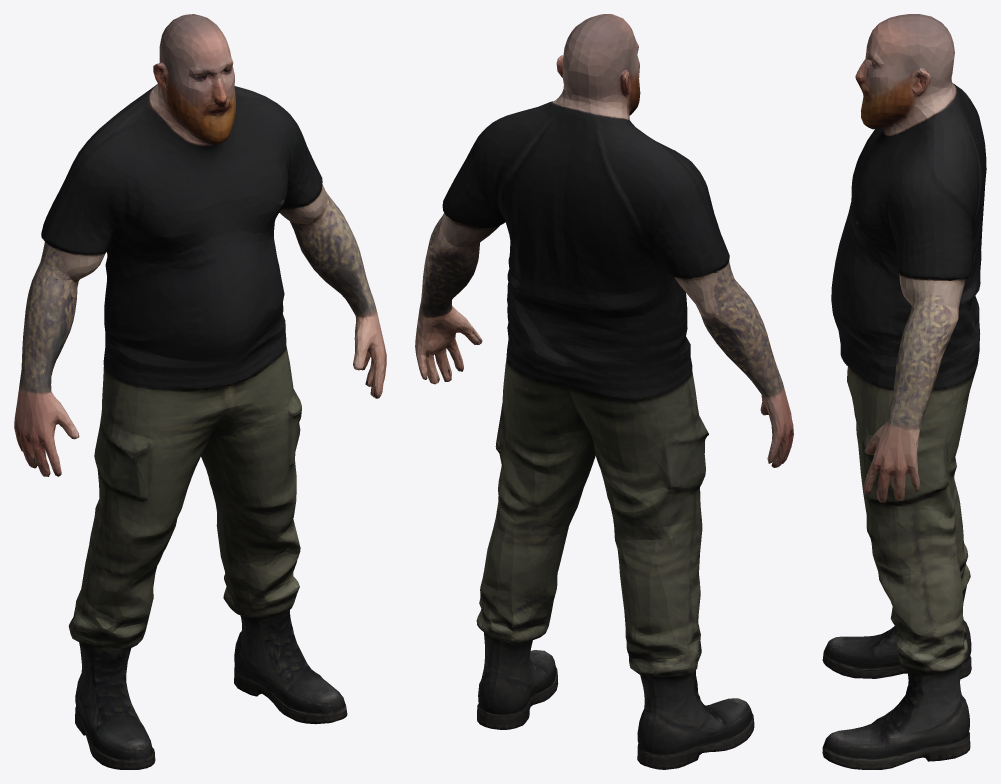
The model's file is raw.glb.
3 renders of one model, left to right at view 1: azimuth 30°, elevation 25°; view 2: azimuth 150°, elevation 25°; view 3: azimuth 270°, elevation 25°, orthographic. The views are drawn at different scales.
Visible parts, largest first — view 1: world; view 2: world; view 3: world.
Boxes of the visible parts, x1,y1,x2,y2 form: world: (14, 14, 386, 769); world: (415, 14, 793, 769); world: (822, 14, 986, 769).
Bounding box in the file's own units: 0.5409 × 1 × 0.2136.
Materials: 1 (1 with a texture image).
